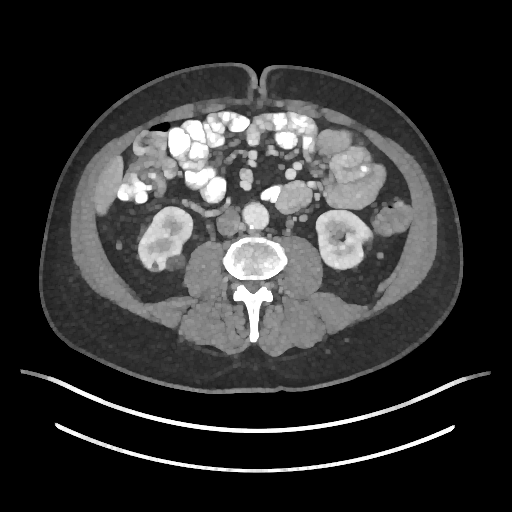Lesion: (160, 251, 187, 277)
